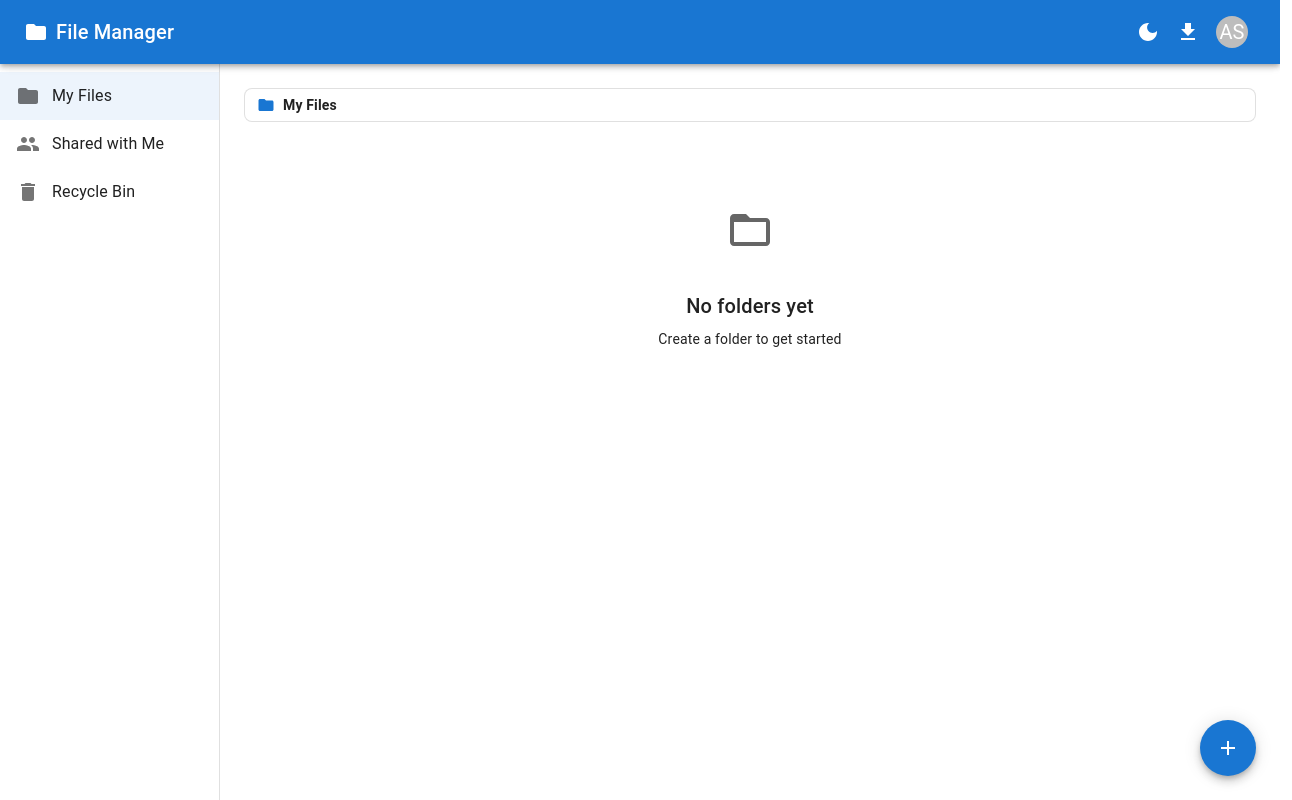
Test: App integration tests › logout flow clears auth and navigates to /register
# Open user profile menu by clicking the avatar button
Step 1. Click the button with aria-label "user avatar" → coordinates (1232, 32), box [1208,8,1256,56]
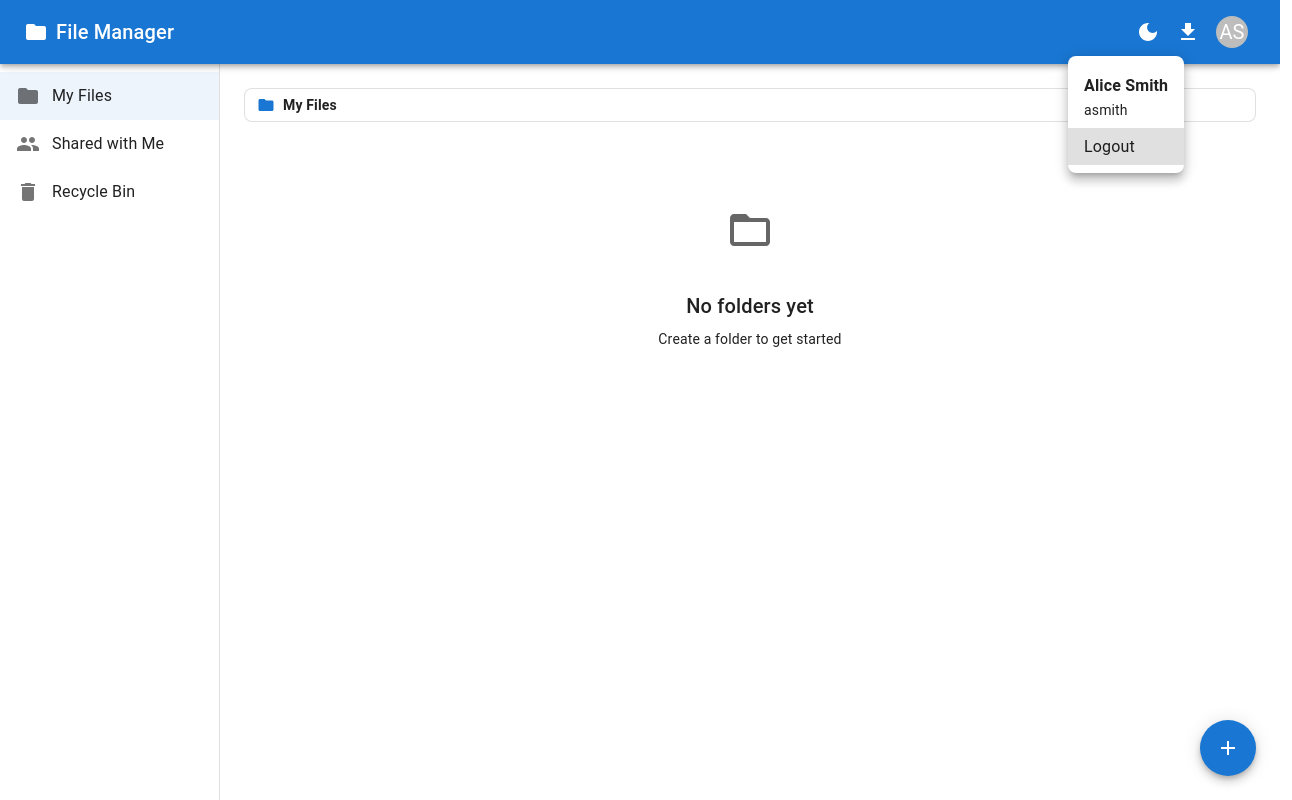
# Click Logout
Step 2. Click the menu item "Logout" → coordinates (1126, 147), box [1068,129,1184,165]
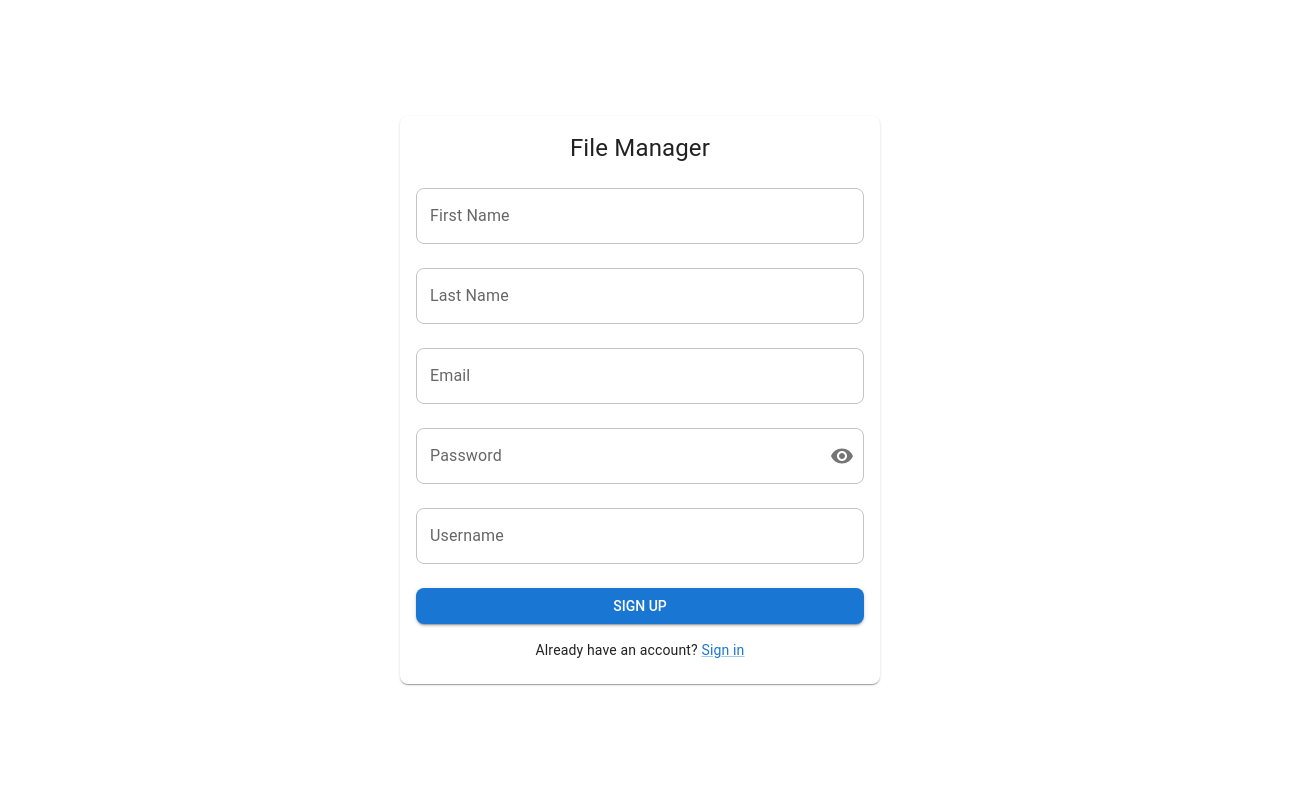
expect the button "Sign Up" is shown: met, box [416,588,864,624]
